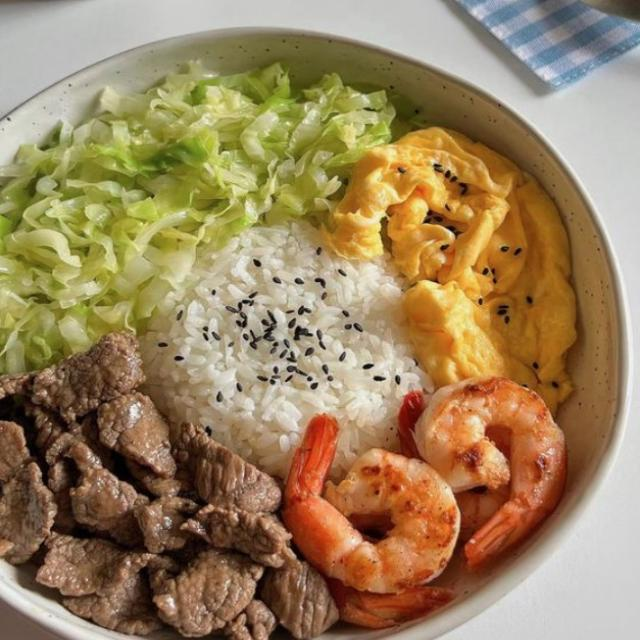Carbohydrate: (146, 226, 444, 510)
Kaow-Yum: (0, 27, 634, 640)
Protein: (0, 335, 574, 640), (322, 128, 570, 416)
Vegetable: (0, 57, 393, 372)
